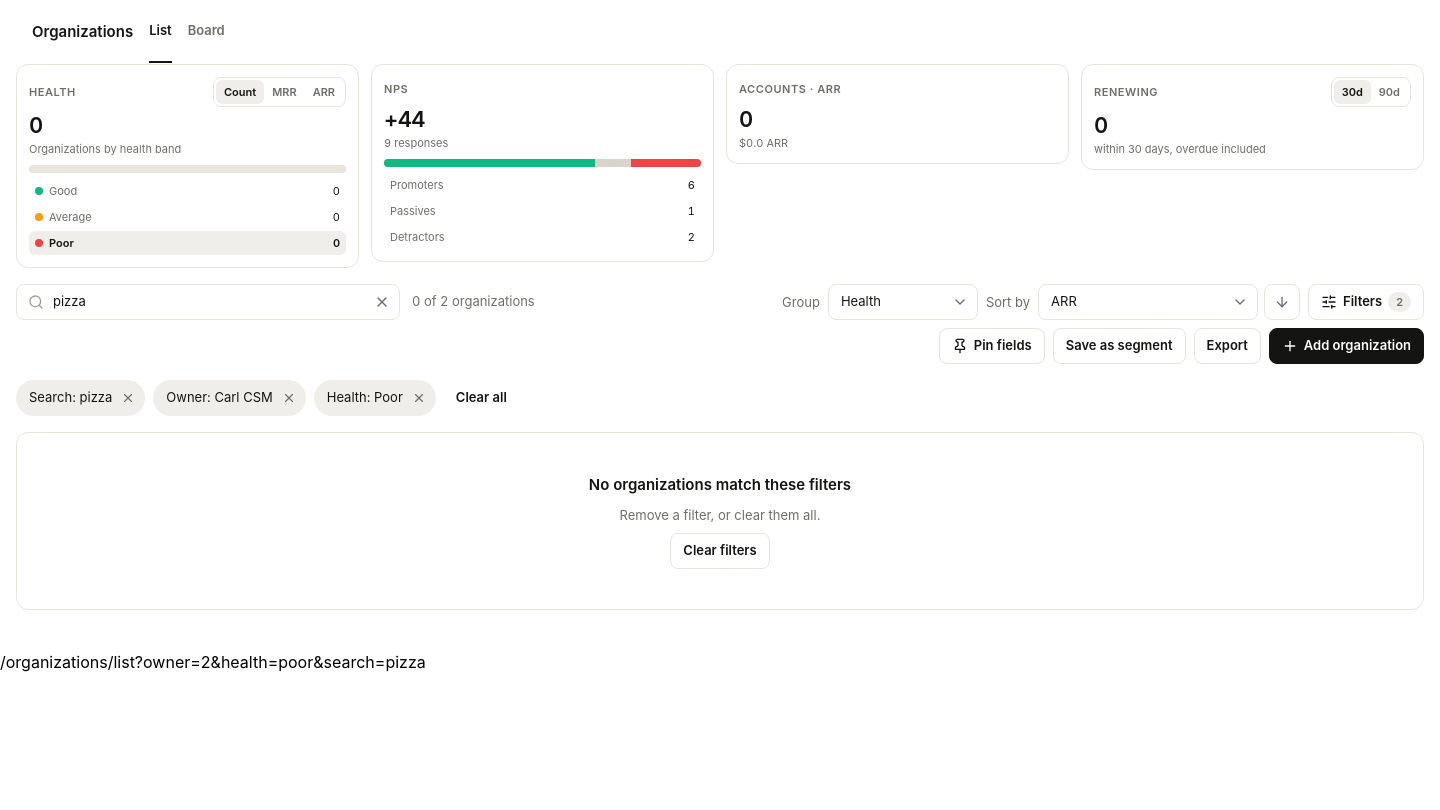
Test: Save as segment on the lists › opens the builder as a modal over Organizations, from the list's own filters, and Cancel leaves the list as it was
Click the button "Save as segment" at (1119, 346), box x1=1053 y1=328 x2=1186 y2=364
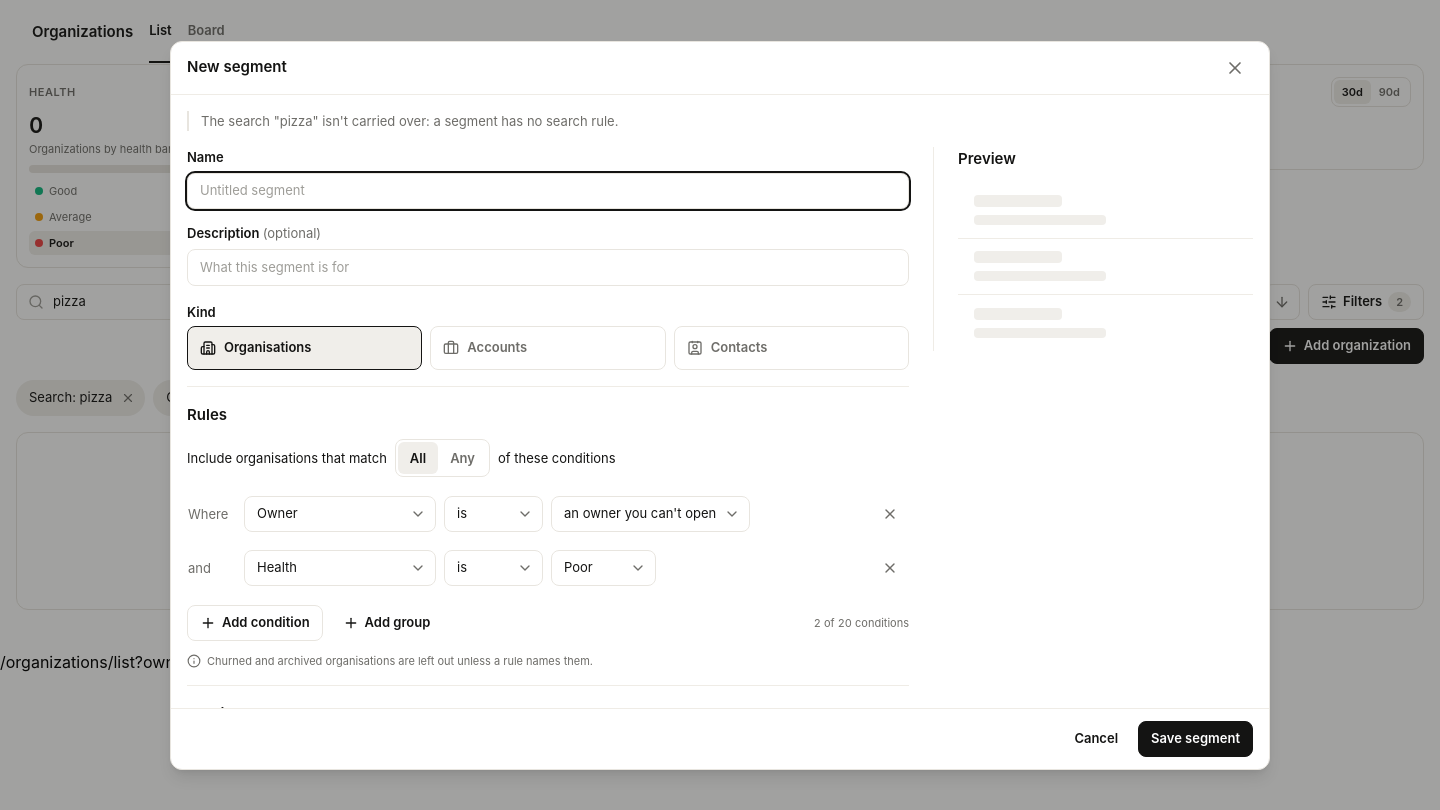
Expected: the text with test id "where" reads "/organizations/list?owner=2&health=poor&search=pizza", x1=0 y1=652 x2=426 y2=672
Now the radio button labelled "Organisations" is checked, box x1=187 y1=326 x2=422 y2=370
Now the list item "The search \"pizza\" isn't carried over" is shown, box x1=201 y1=112 x2=618 y2=128
Click the button "Cancel" at (1096, 738), box x1=1062 y1=720 x2=1130 y2=756
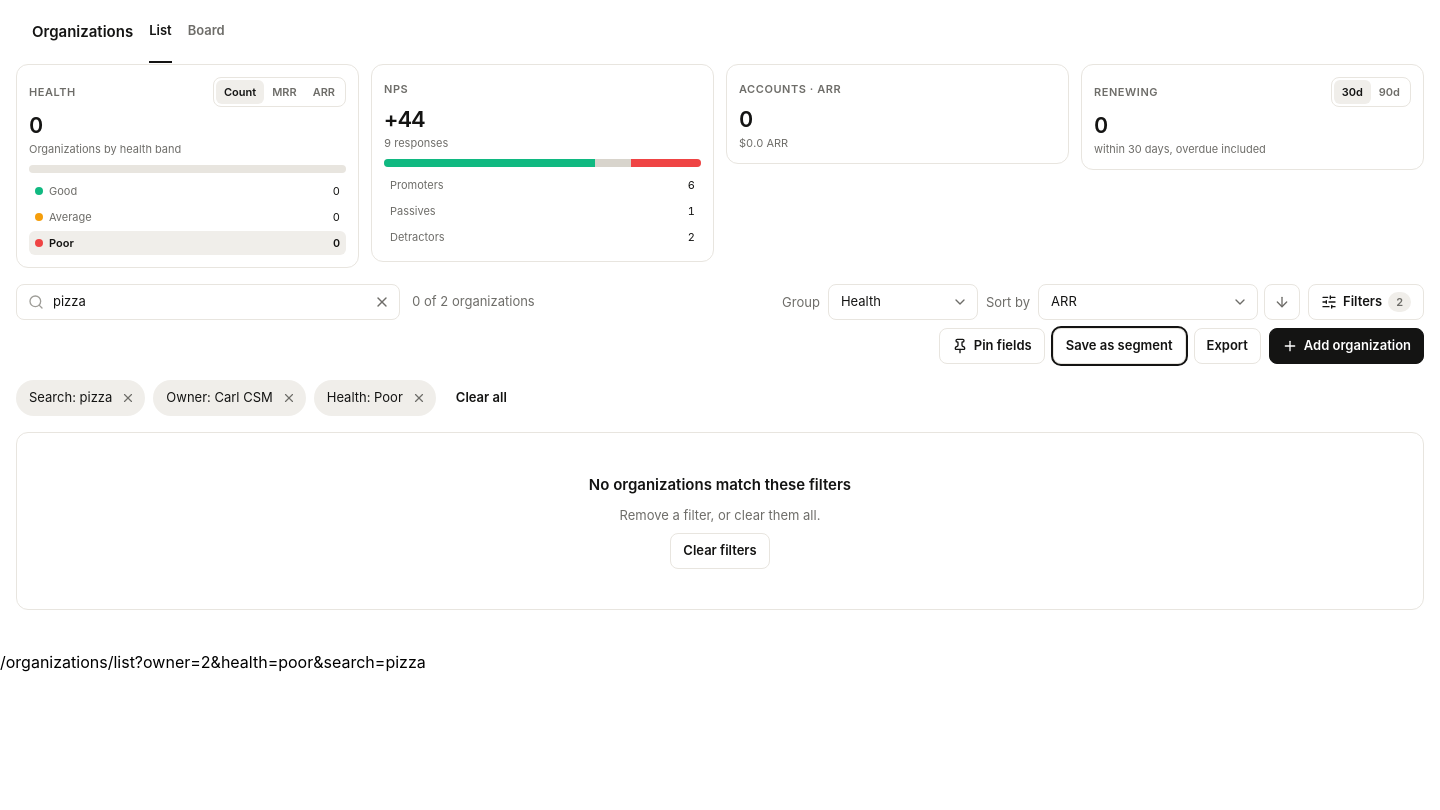
Expected: the text with test id "where" reads "/organizations/list?owner=2&health=poor&search=pizza", x1=0 y1=652 x2=426 y2=672
Now the dialog is gone
